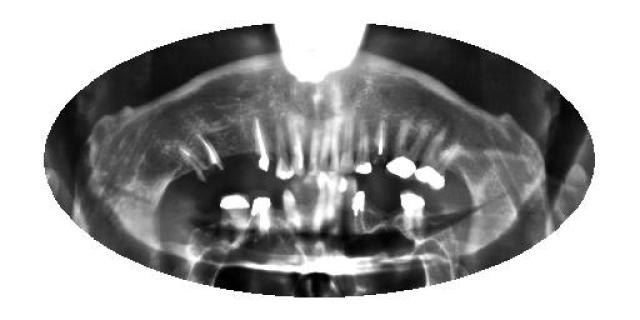Cavity: (178, 134, 226, 186), (372, 121, 388, 169)
Fillings: (415, 125, 459, 190), (386, 121, 429, 180), (220, 192, 250, 228), (354, 119, 371, 176)
Implant: (252, 112, 270, 176), (352, 187, 366, 235)
